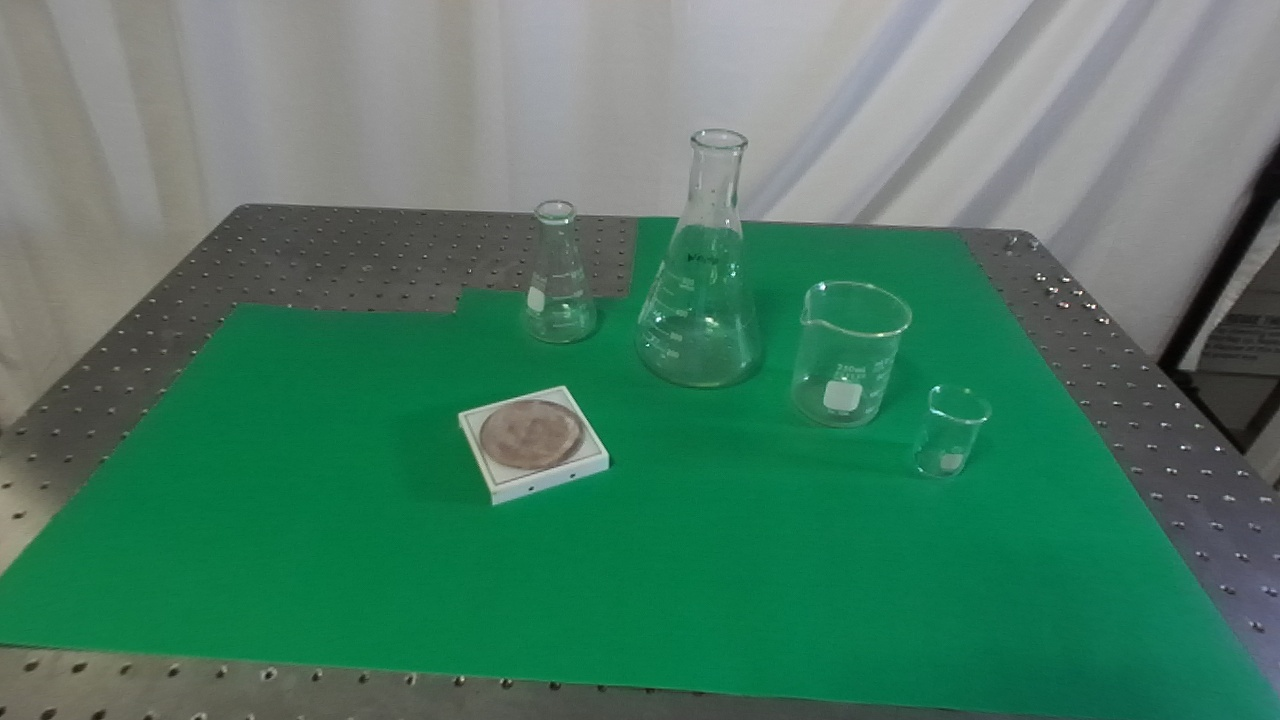glass: (632, 124, 769, 393), (787, 275, 918, 431), (518, 196, 602, 350), (910, 377, 996, 483)
plate: (454, 382, 616, 510)
